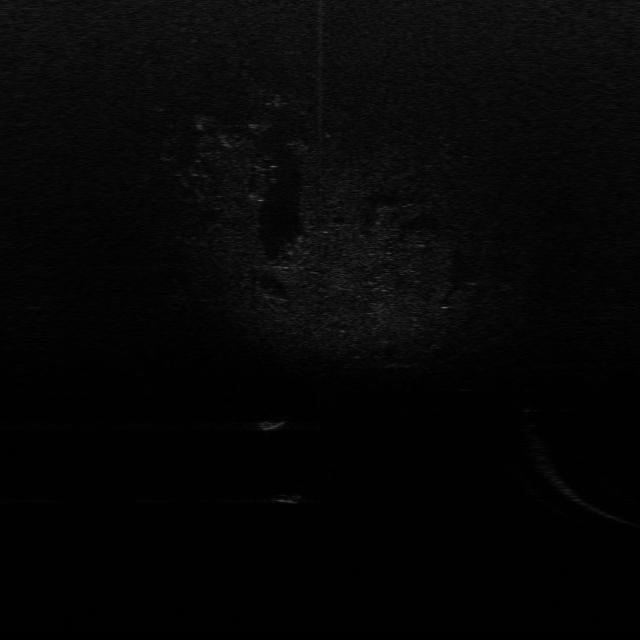cube: (266, 484, 306, 509)
square cage: (253, 410, 291, 434)
